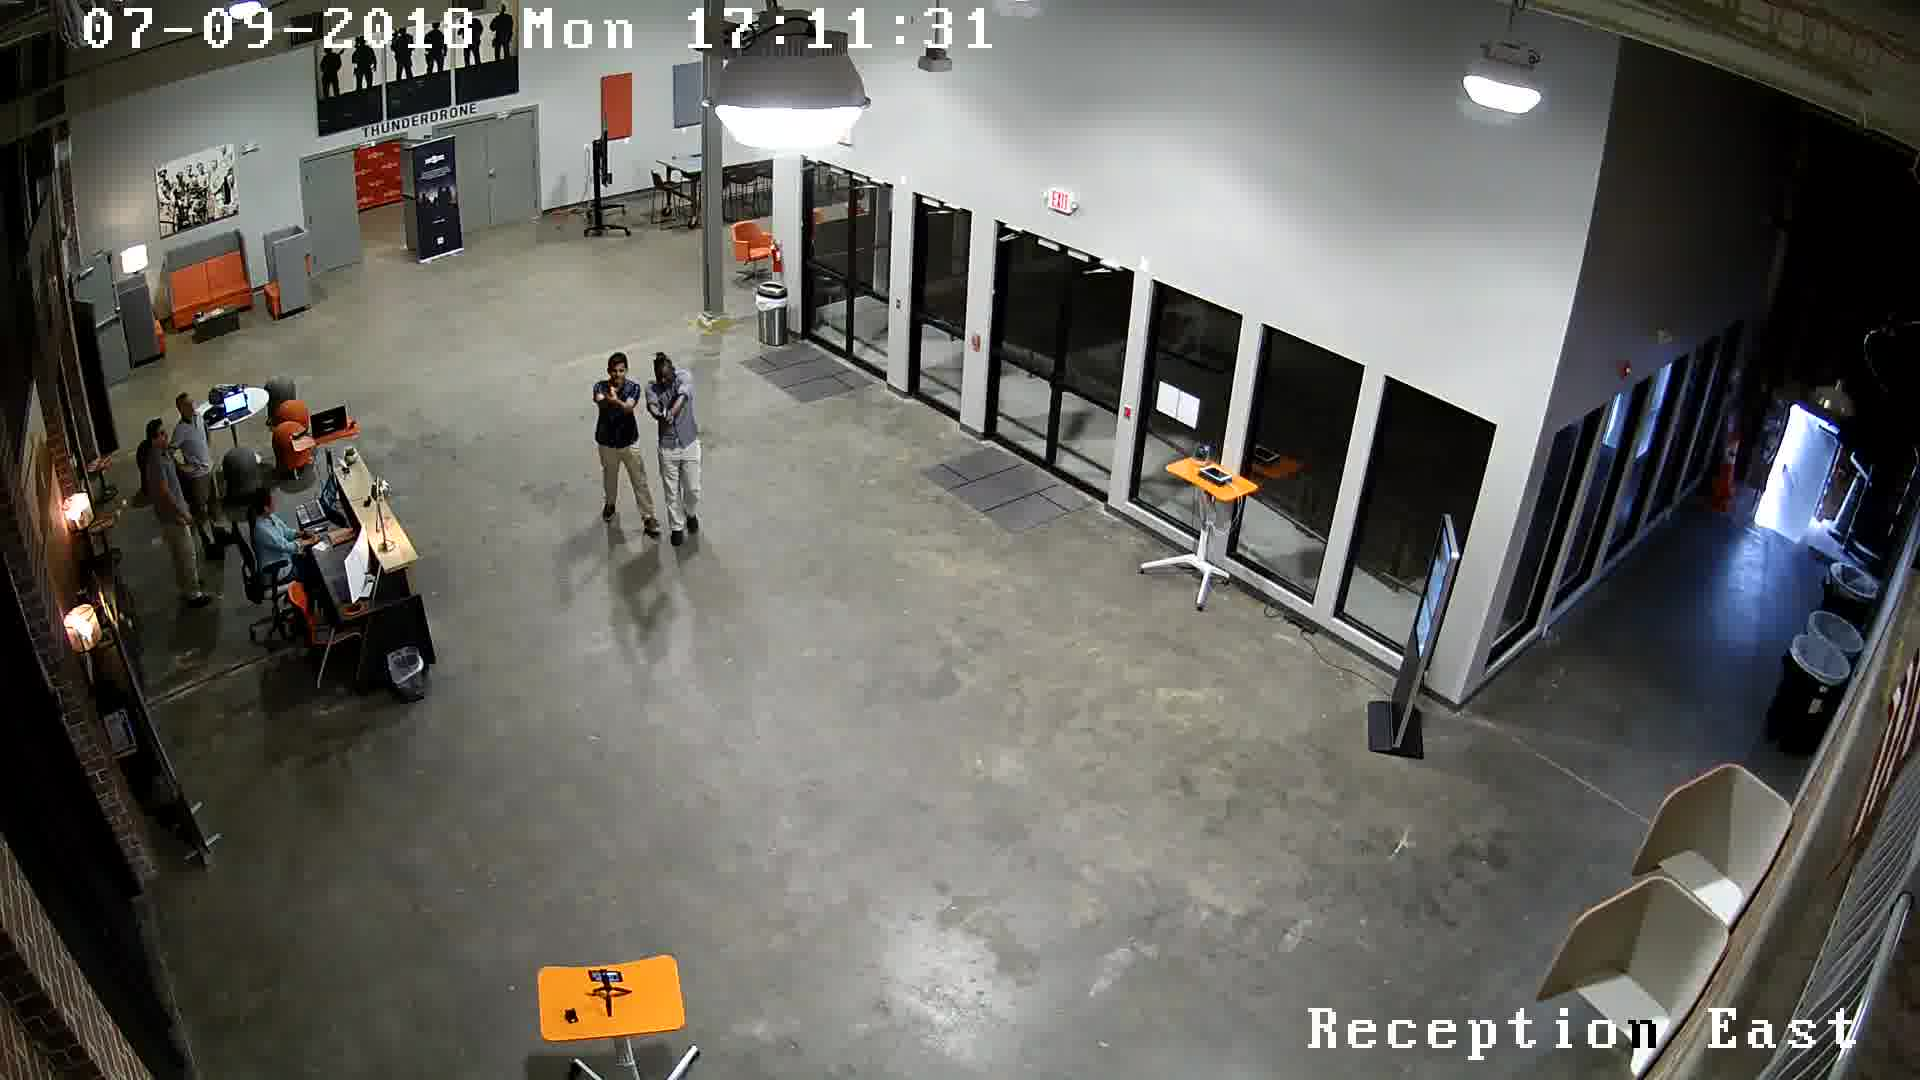pistol: (651, 405, 680, 440)
